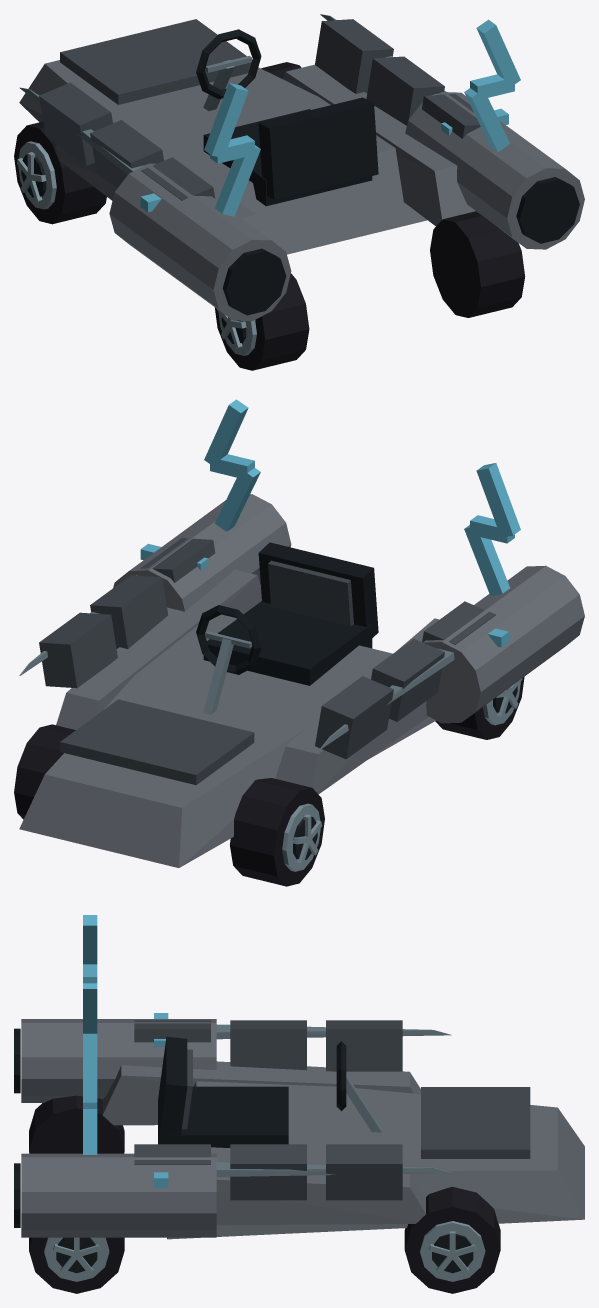
The model's file is kart.glb.
The picture shows the model from 3 angles, top to bottom: view 1: azimuth 30°, elevation 25°; view 2: azimuth 150°, elevation 25°; view 3: azimuth 270°, elevation 25°; orthographic projection. The views are drawn at different scales.
Visible parts, largest first — view 1: identity-speeder-speeder-long-cowl-and-stern-turbines, identity-speeder-motif-armor, identity-speeder-driver-cockpit, wheel-rear-right, identity-speeder-motif-electric, wheel-front-left, wheel-rear-left, identity-speeder-motif-swords; view 2: identity-speeder-speeder-long-cowl-and-stern-turbines, identity-speeder-motif-armor, identity-speeder-driver-cockpit, wheel-front-left, identity-speeder-motif-electric, wheel-front-right, wheel-rear-left, identity-speeder-motif-swords; view 3: identity-speeder-speeder-long-cowl-and-stern-turbines, identity-speeder-motif-armor, identity-speeder-driver-cockpit, wheel-front-right, wheel-rear-right, wheel-rear-left, identity-speeder-motif-electric, identity-speeder-motif-swords.
Part boxes in pixels (bbox=[...]): identity-speeder-speeder-long-cowl-and-stern-turbines: bbox=[19, 19, 584, 321]; identity-speeder-motif-armor: bbox=[39, 19, 480, 200]; identity-speeder-driver-cockpit: bbox=[196, 29, 378, 206]; wheel-rear-right: bbox=[430, 211, 525, 317]; identity-speeder-motif-electric: bbox=[204, 19, 520, 216]; wheel-front-left: bbox=[14, 121, 106, 224]; wheel-rear-left: bbox=[214, 273, 309, 370]; identity-speeder-motif-swords: bbox=[19, 14, 508, 212]; identity-speeder-speeder-long-cowl-and-stern-turbines: bbox=[19, 494, 584, 867]; identity-speeder-motif-armor: bbox=[39, 538, 495, 759]; identity-speeder-driver-cockpit: bbox=[196, 542, 378, 714]; wheel-front-left: bbox=[230, 778, 324, 886]; identity-speeder-motif-electric: bbox=[204, 399, 520, 595]; wheel-front-right: bbox=[14, 724, 75, 819]; wheel-rear-left: bbox=[435, 676, 524, 739]; identity-speeder-motif-swords: bbox=[19, 543, 508, 749]; identity-speeder-speeder-long-cowl-and-stern-turbines: bbox=[14, 1019, 584, 1239]; identity-speeder-motif-armor: bbox=[134, 1020, 402, 1200]; identity-speeder-driver-cockpit: bbox=[158, 1036, 381, 1147]; wheel-front-right: bbox=[404, 1186, 500, 1293]; wheel-rear-right: bbox=[29, 1237, 124, 1293]; wheel-rear-left: bbox=[29, 1095, 124, 1153]; identity-speeder-motif-electric: bbox=[83, 915, 97, 1154]; identity-speeder-motif-swords: bbox=[154, 1013, 451, 1187].
Bounding box in the file's own units: 2.1 × 1.49 × 2.98.
